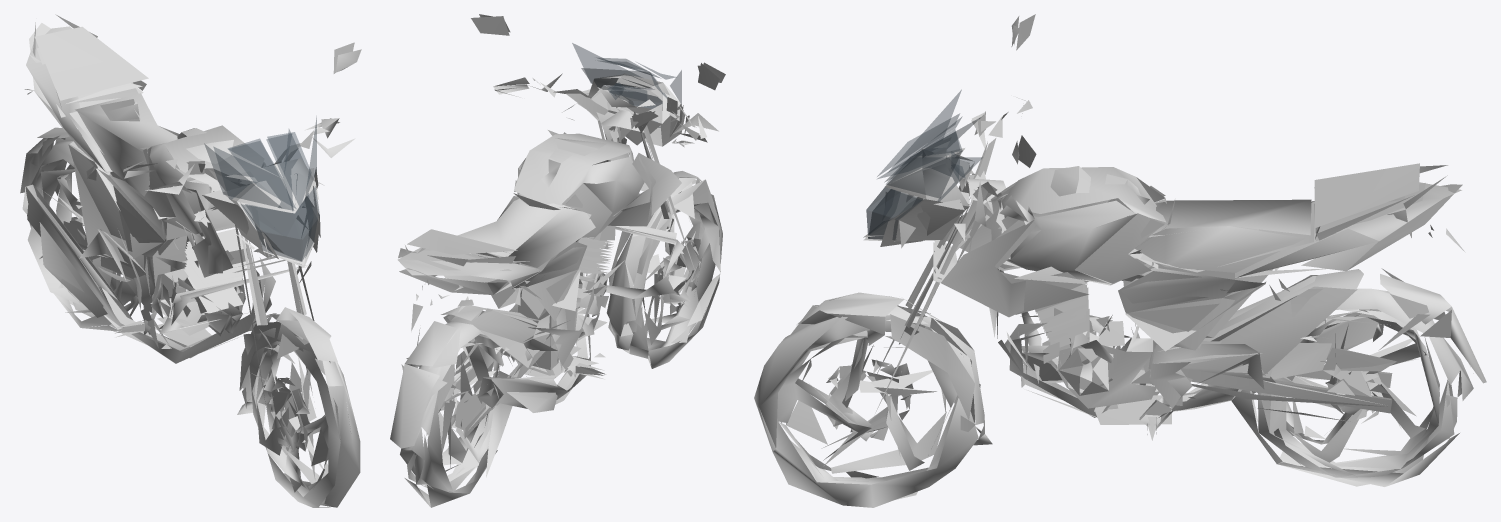
File: pulsar_lod.glb
3 renders of one model, left to right at view 1: azimuth 30°, elevation 25°; view 2: azimuth 150°, elevation 25°; view 3: azimuth 270°, elevation 25°, orthographic. The views are drawn at different scales.
Parts seen in each view (by area): view 1: pulsar; view 2: pulsar; view 3: pulsar.
Boxes of the visible parts, left/top/right/bottom form: pulsar: left=20, top=14, right=361, bottom=507; pulsar: left=390, top=14, right=725, bottom=507; pulsar: left=754, top=14, right=1486, bottom=507.
Size of the model in its own units: 0.9072 by 1.29 by 2.
